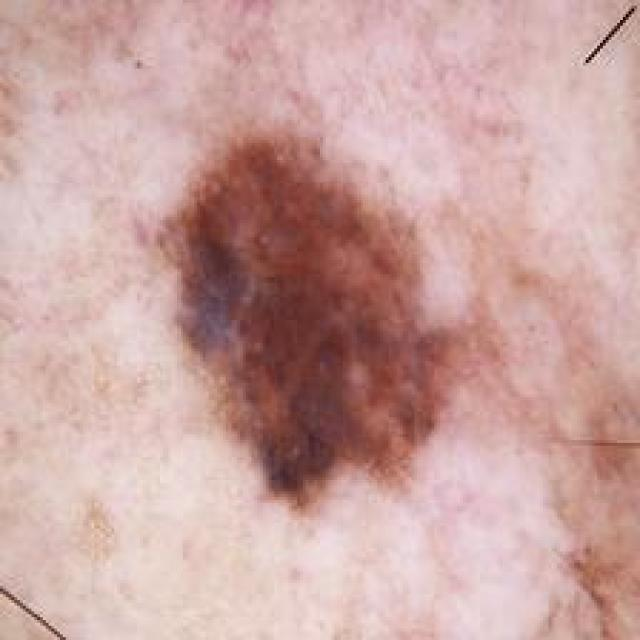Cancer: (146, 120, 463, 511)
